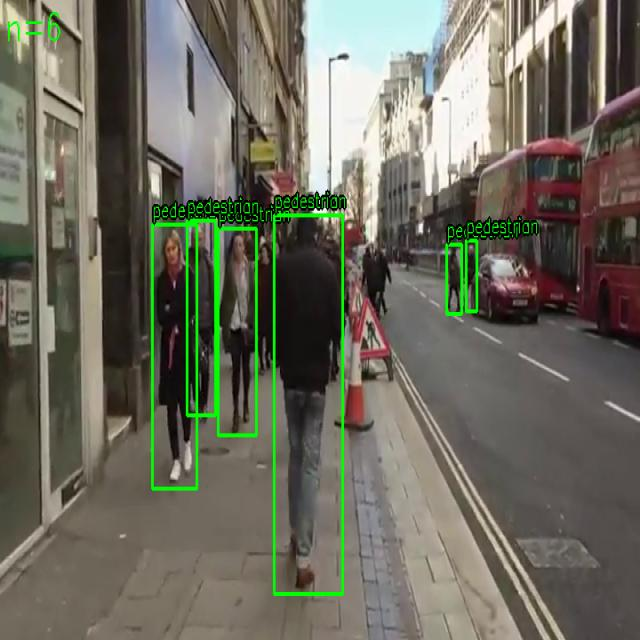with scooter: (274, 215, 343, 594), (152, 224, 197, 489), (218, 228, 257, 436), (187, 220, 216, 416), (446, 244, 462, 315), (466, 240, 477, 312)
